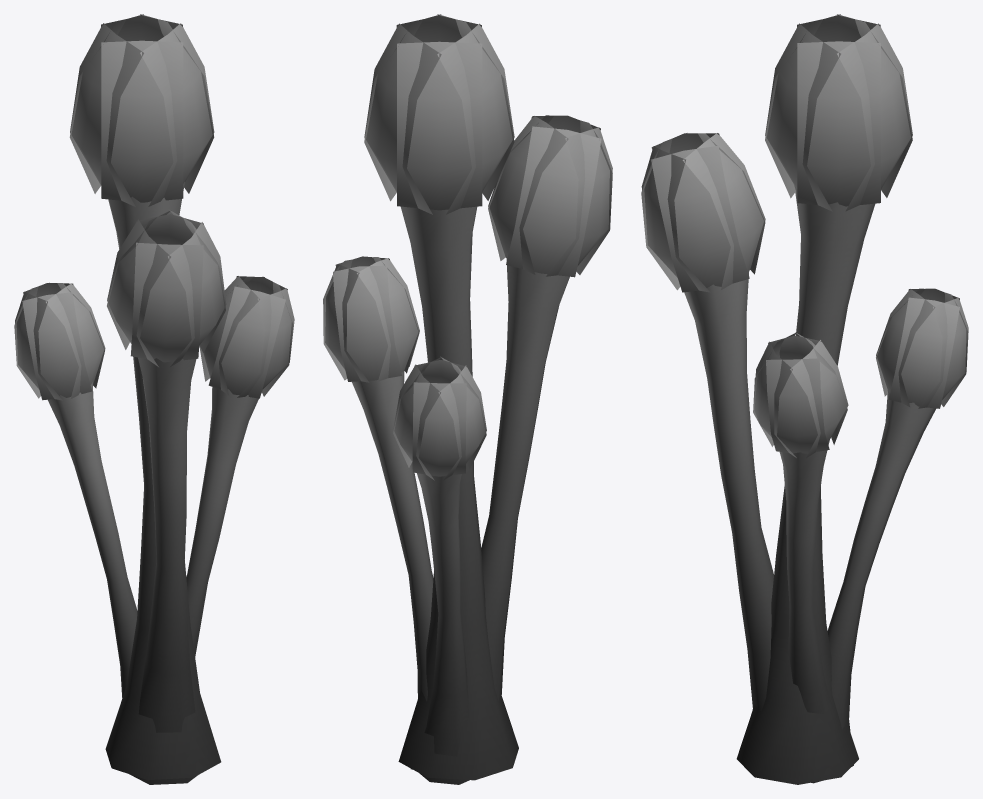
The model's file is BerryGrowing_MESH_01.fbx.
3 renders of one model, left to right at view 1: azimuth 30°, elevation 25°; view 2: azimuth 150°, elevation 25°; view 3: azimuth 270°, elevation 25°, orthographic. The views are drawn at different scales.
Visible parts, largest first — view 1: BerryGrowing_MESH_01; view 2: BerryGrowing_MESH_01; view 3: BerryGrowing_MESH_01.
Part boxes in pixels (left/top/right/bottom): BerryGrowing_MESH_01: left=14, top=14, right=294, bottom=784; BerryGrowing_MESH_01: left=323, top=14, right=612, bottom=784; BerryGrowing_MESH_01: left=641, top=14, right=968, bottom=784.
Size of the model in its own units: 42.77 by 137 by 54.97.
